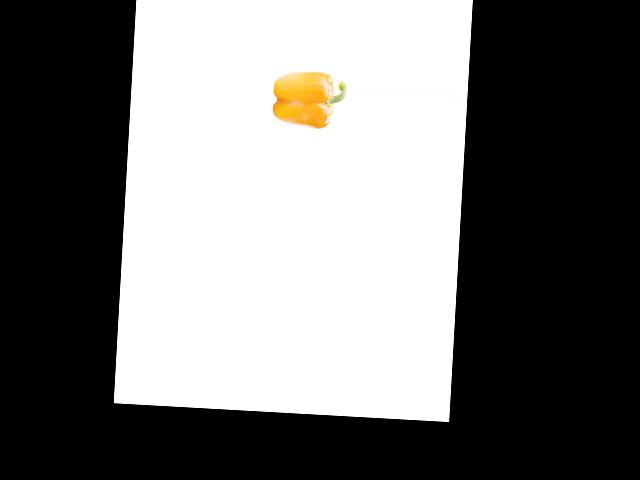bell_pepper: (270, 63, 348, 135)
